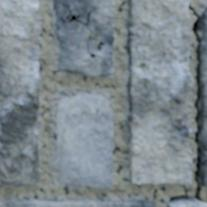brick: (128, 0, 192, 184), (0, 0, 40, 186), (57, 94, 112, 186), (53, 0, 113, 75), (199, 8, 206, 142), (0, 200, 155, 206), (200, 145, 206, 186), (168, 203, 206, 206)
crack: (168, 2, 206, 204), (201, 159, 206, 164)
